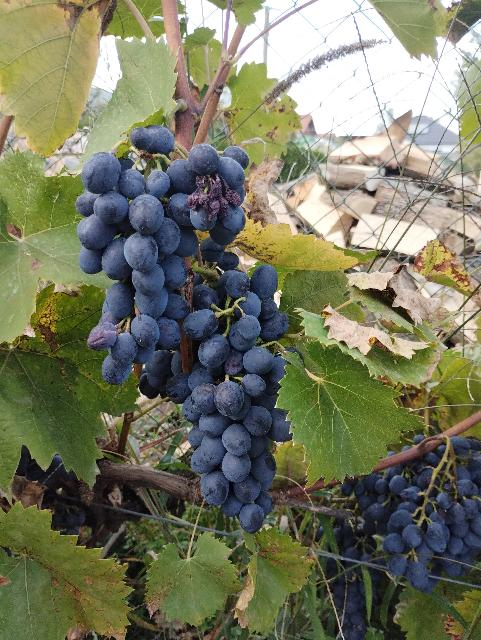grapes: (75, 125, 245, 396), (165, 240, 292, 534), (335, 436, 481, 594)
